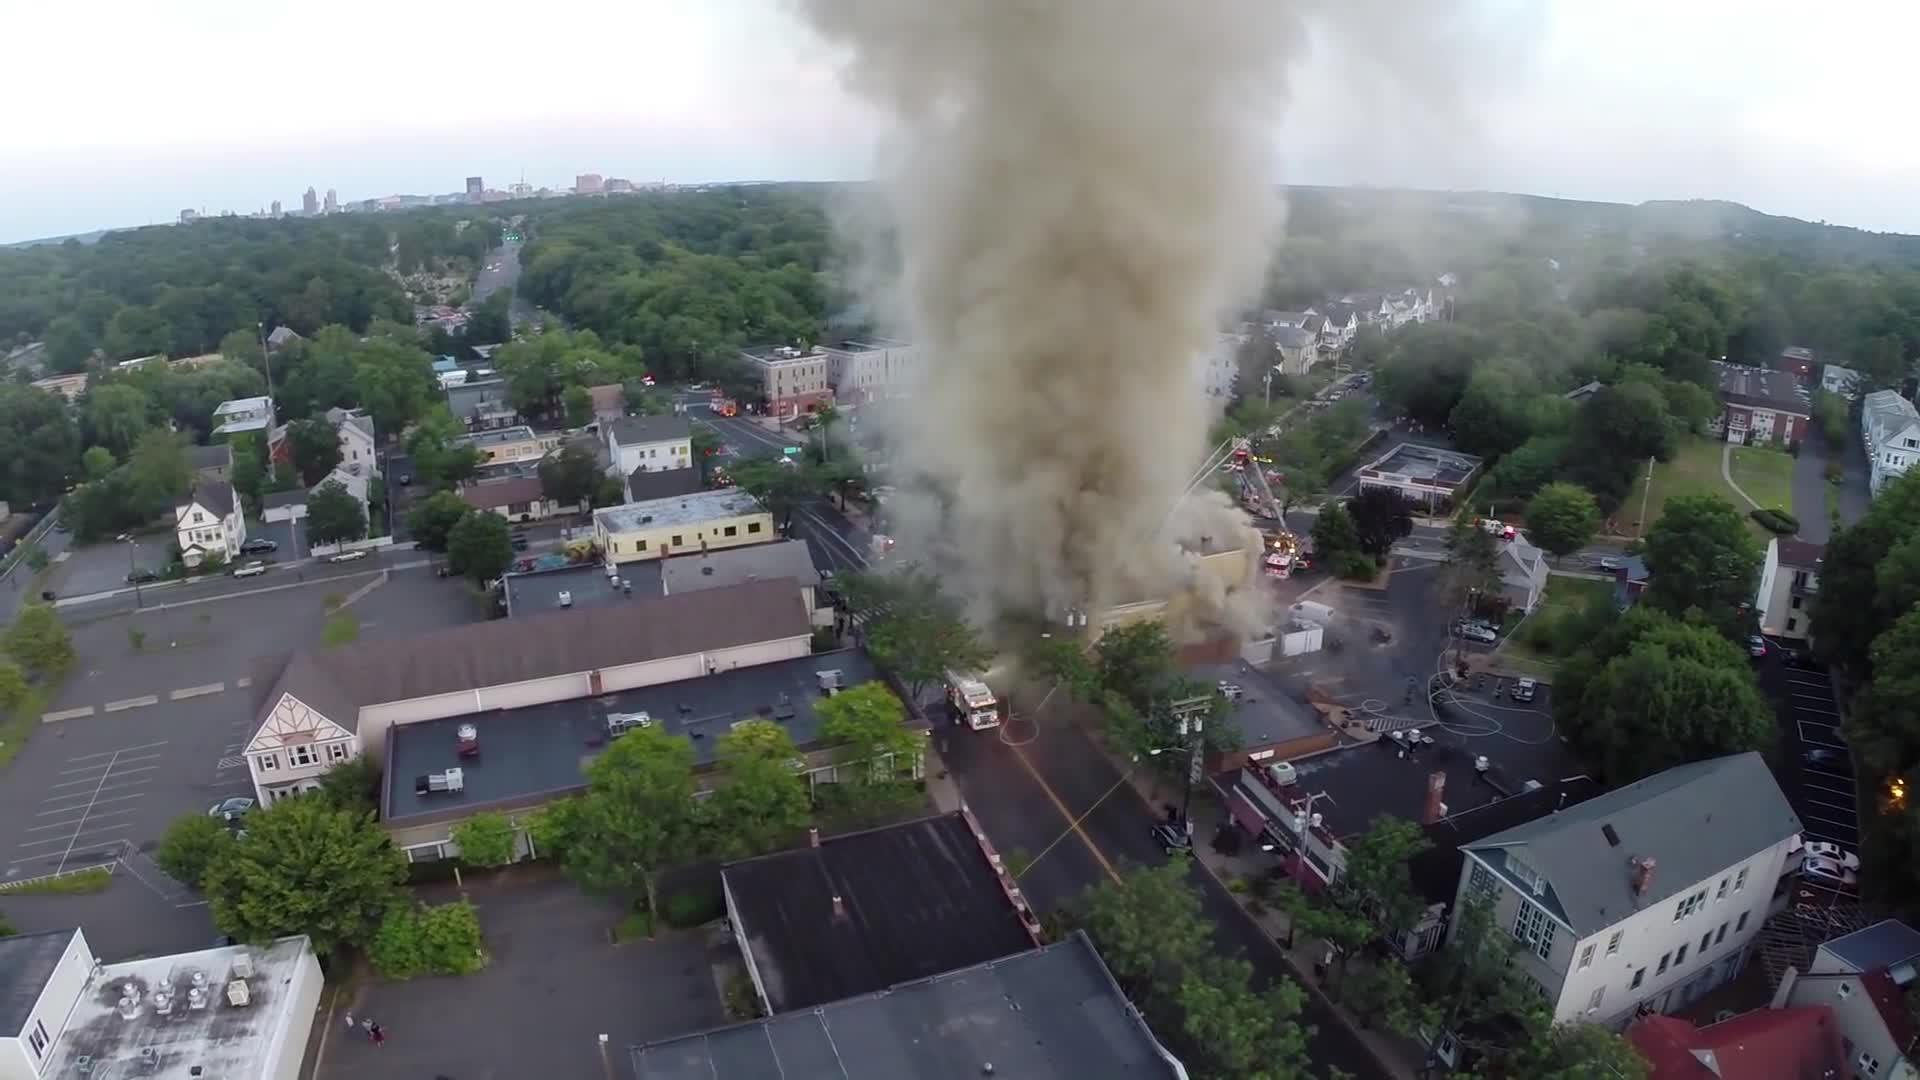smoke: (822, 0, 1316, 655)
